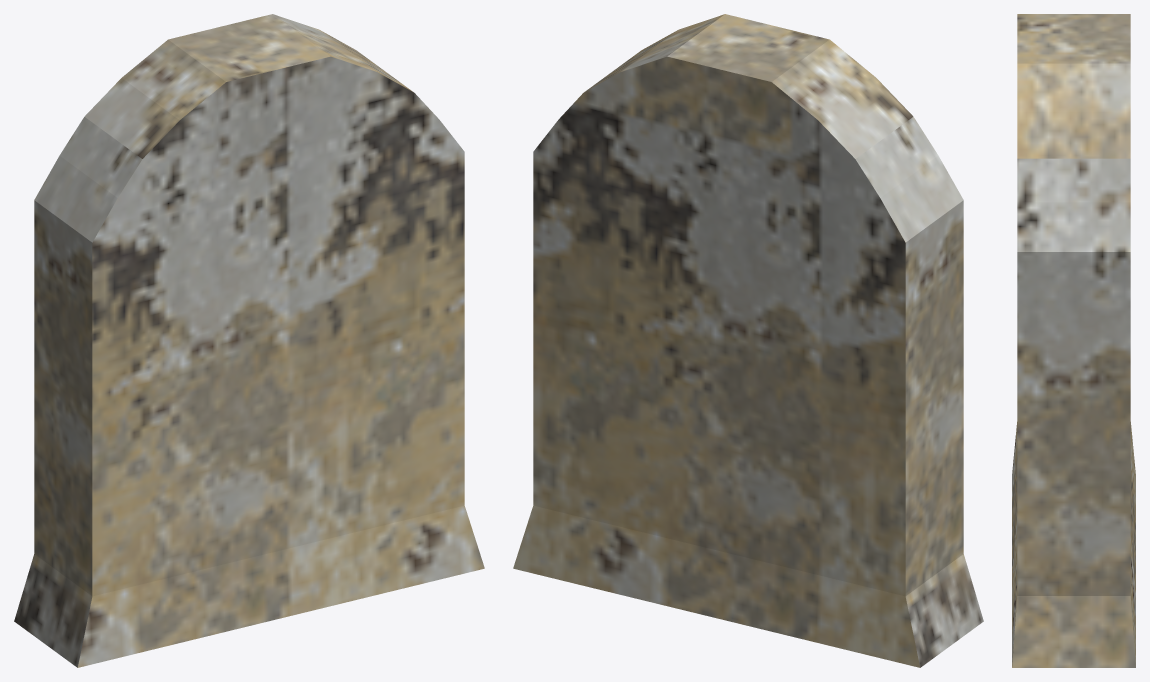
Rendered from Grave.fbx.
3 renders of one model, left to right at view 1: azimuth 30°, elevation 25°; view 2: azimuth 150°, elevation 25°; view 3: azimuth 270°, elevation 25°, orthographic. The views are drawn at different scales.
Visible parts, largest first — view 1: Cube; view 2: Cube; view 3: Cube.
Part boxes in pixels (bbox=[...]): Cube: bbox=[14, 14, 484, 667]; Cube: bbox=[513, 14, 983, 667]; Cube: bbox=[1012, 14, 1135, 667].
Bounding box in the file's own units: 219 × 281 × 59.19.
Materials: 1 (1 with a texture image).
